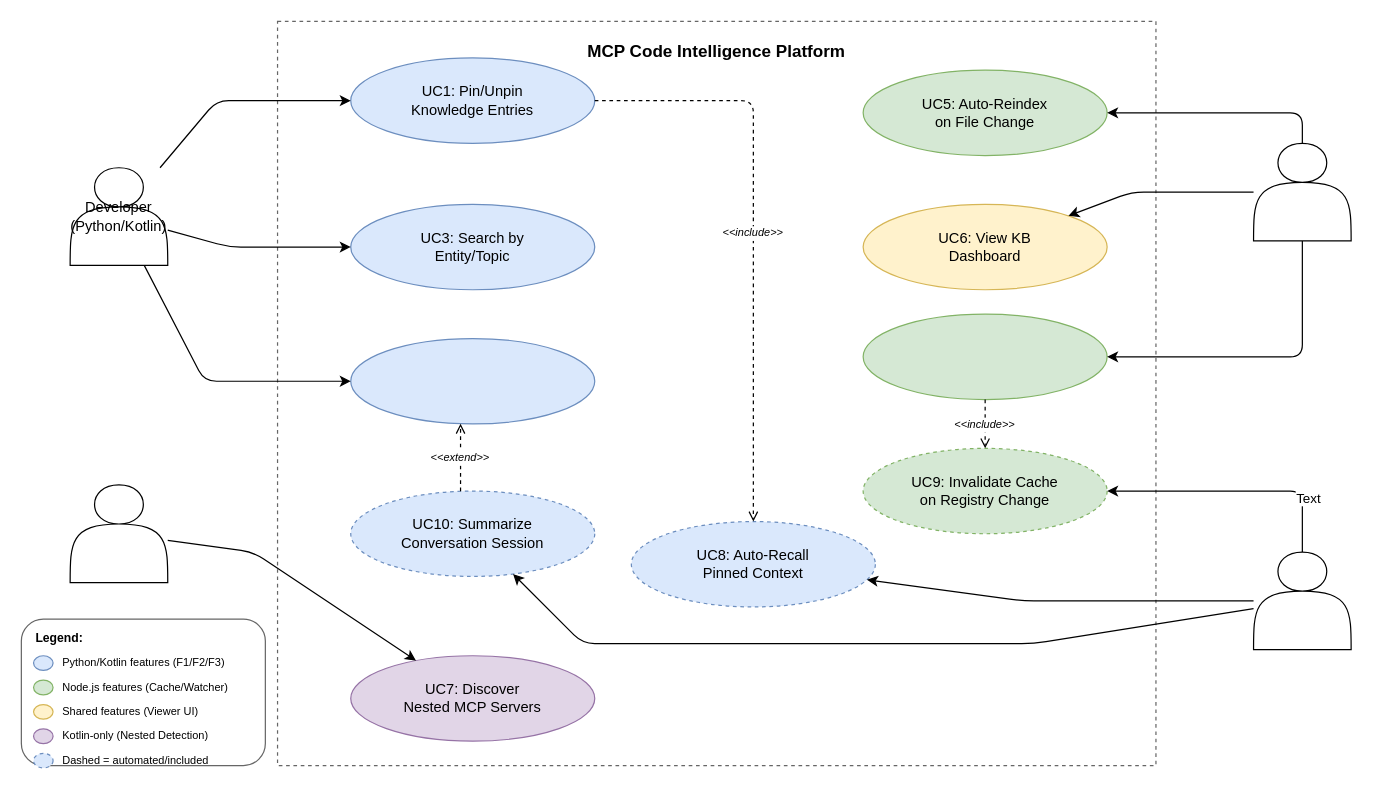
The diagram is 1373 pixels wide and 794 high, and some of its shapes have lost their labels. Here are the shapes that lost their labels. From the top down, the centre of each, then its label:
the point at 1301,191: Developer (Node.js)
the point at 984,356: UC4: Cache Orchestration Results
the point at 472,380: UC2: Save/Retrieve Conversation History
the point at 118,533: Developer (Kotlin)
the point at 1301,600: MCP System (Auto)
